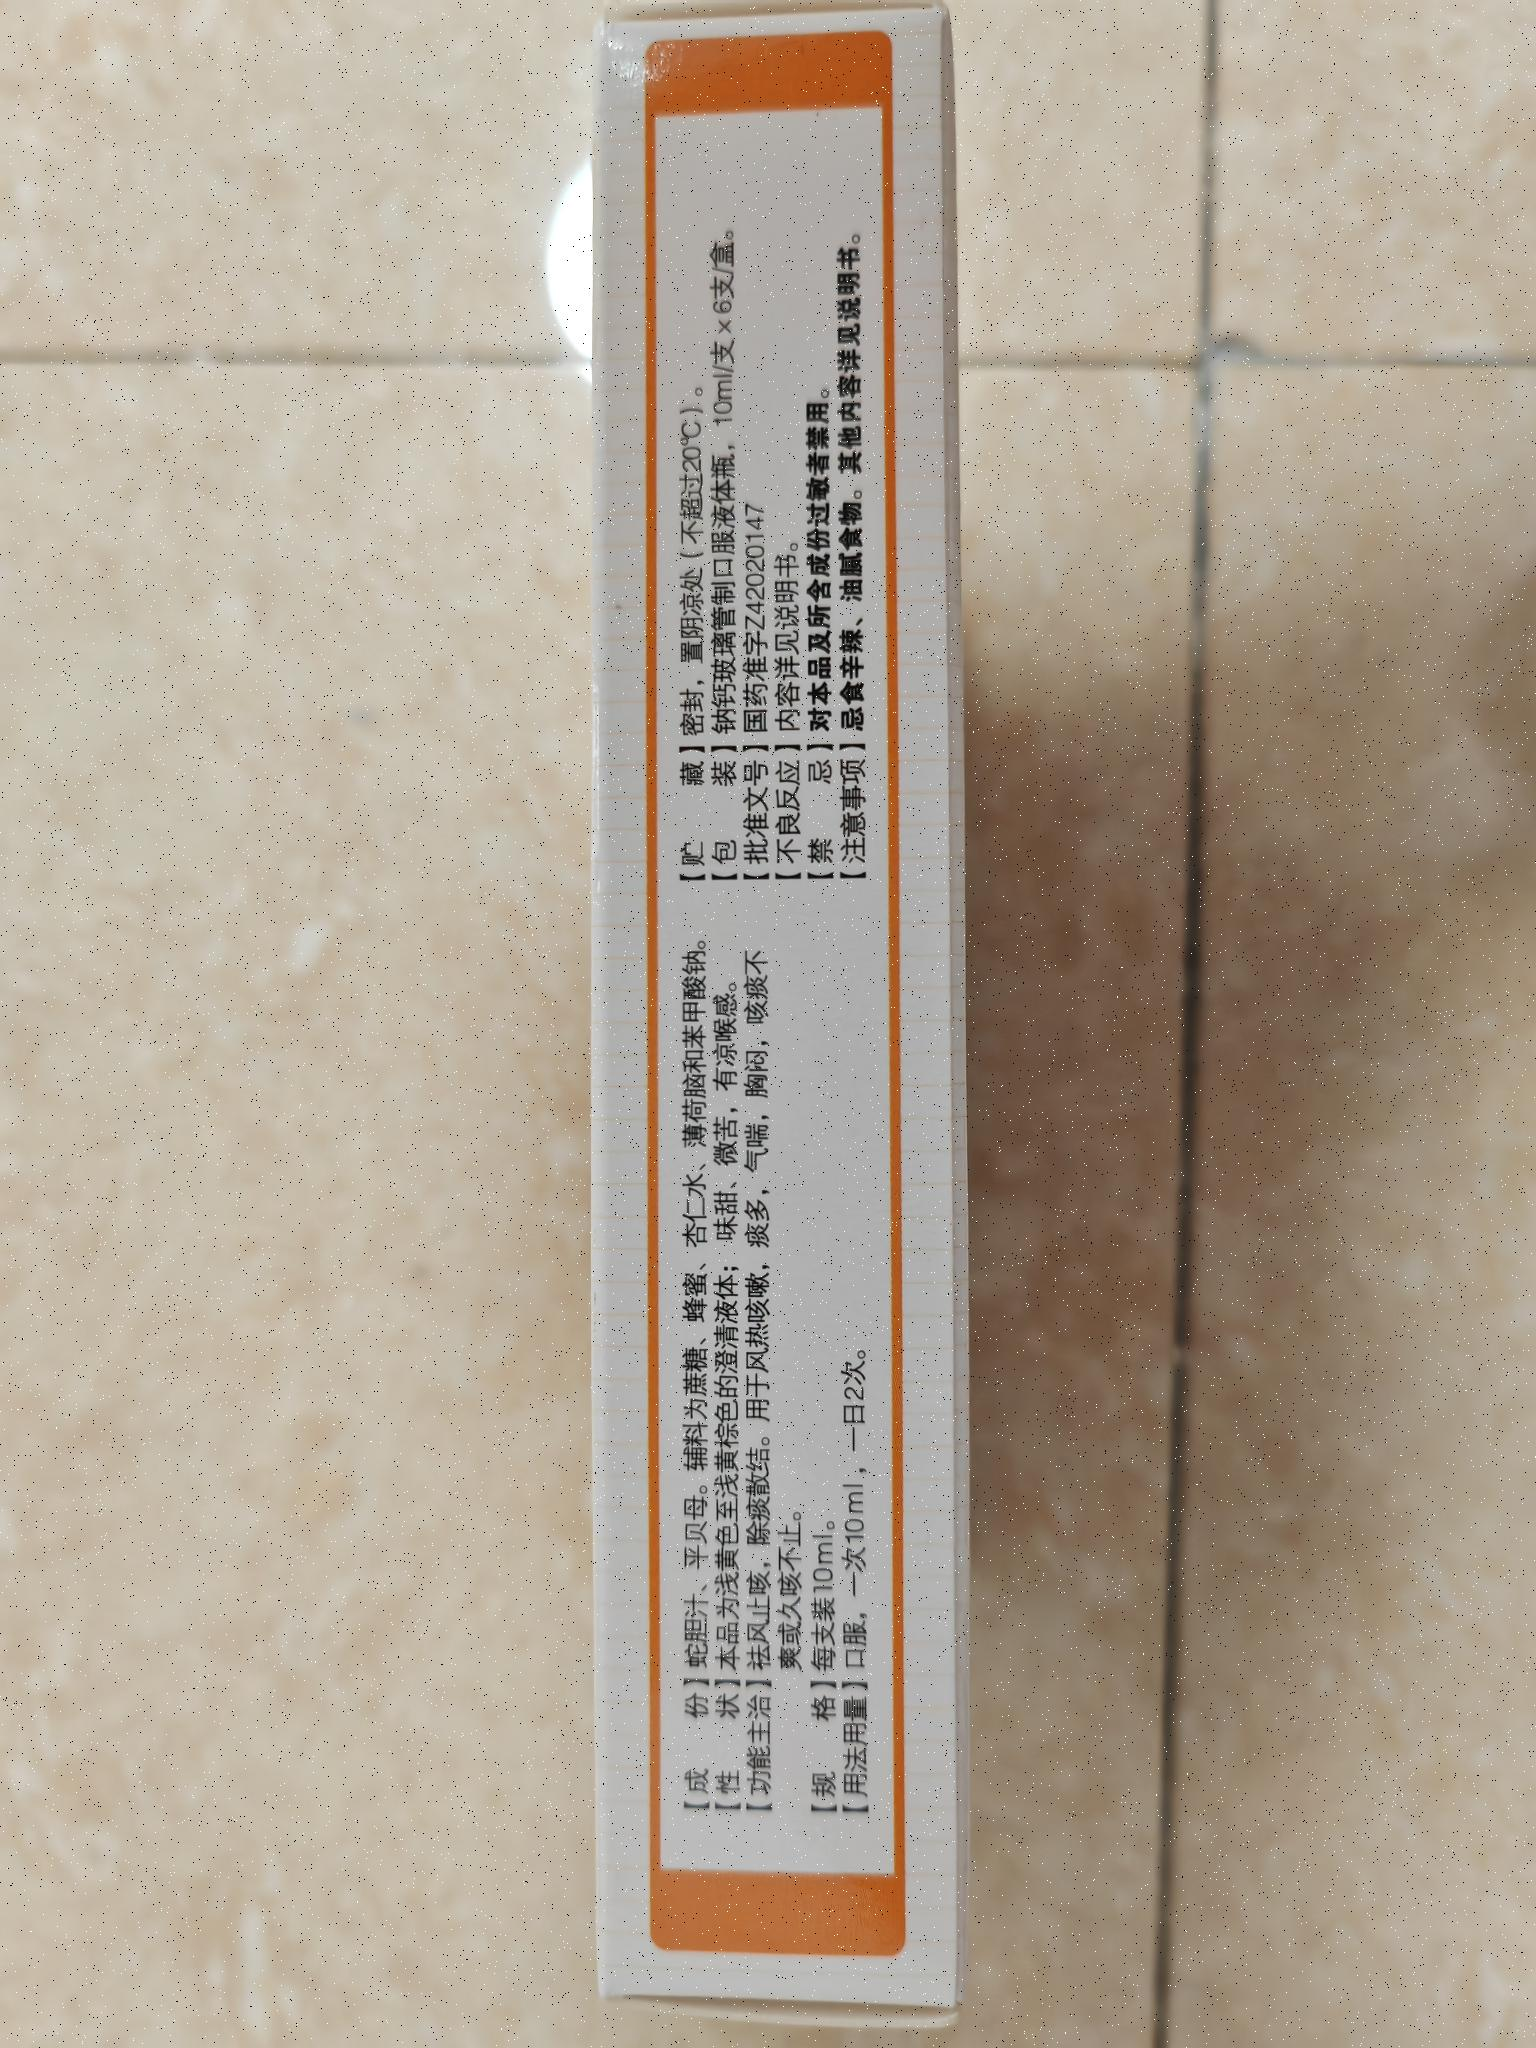Medicine5: (560, 8, 979, 2035)
